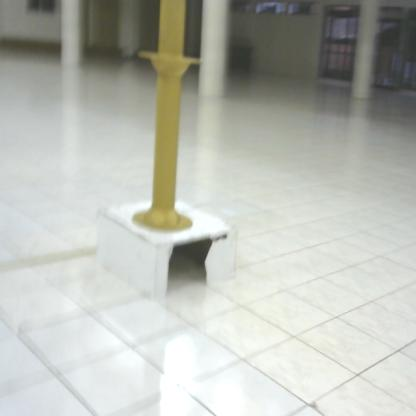pole: (132, 1, 204, 237)
